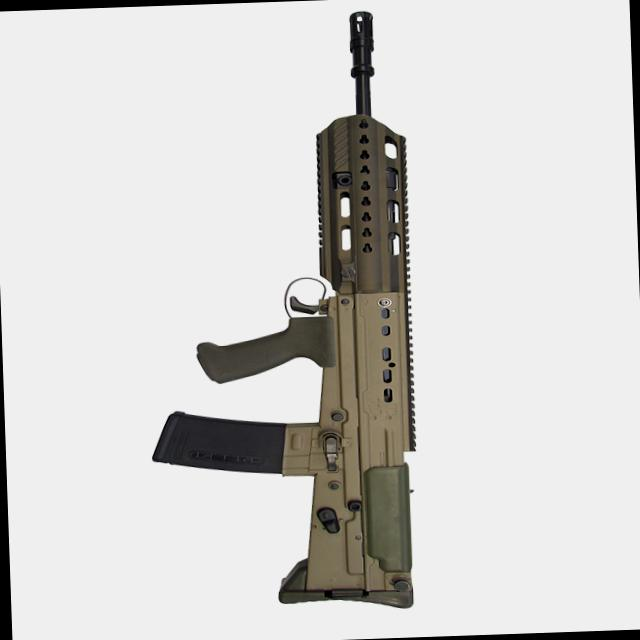long weapon: (158, 7, 443, 622)
